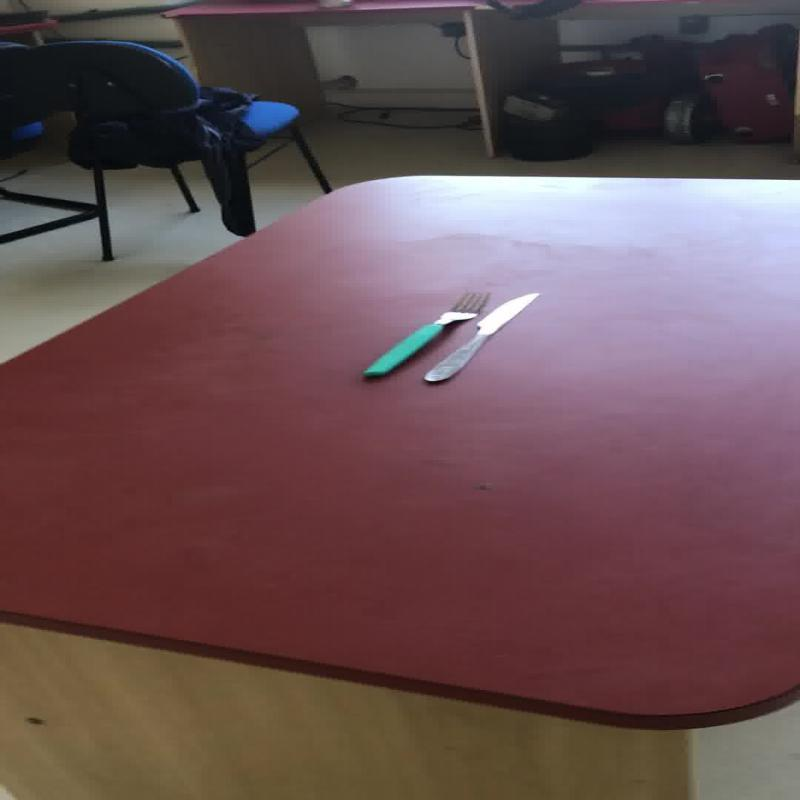fork: (360, 290, 490, 378)
knife: (359, 288, 540, 384), (420, 290, 540, 382)
